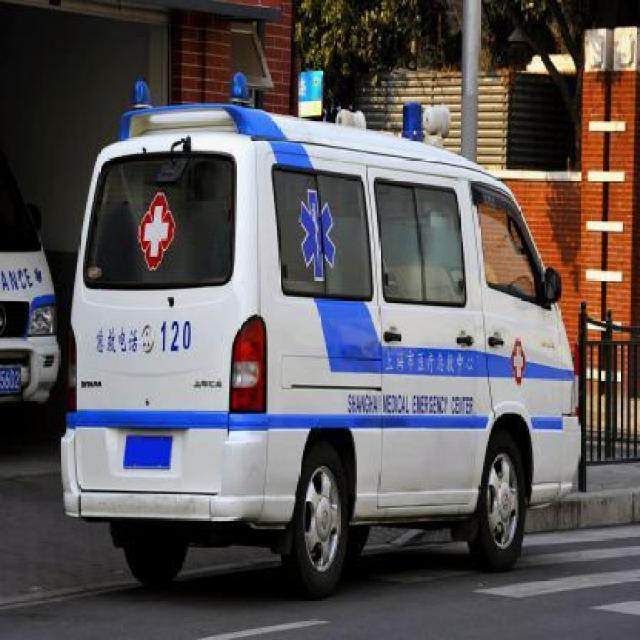Ambulance: (63, 53, 586, 566), (0, 126, 49, 427)
